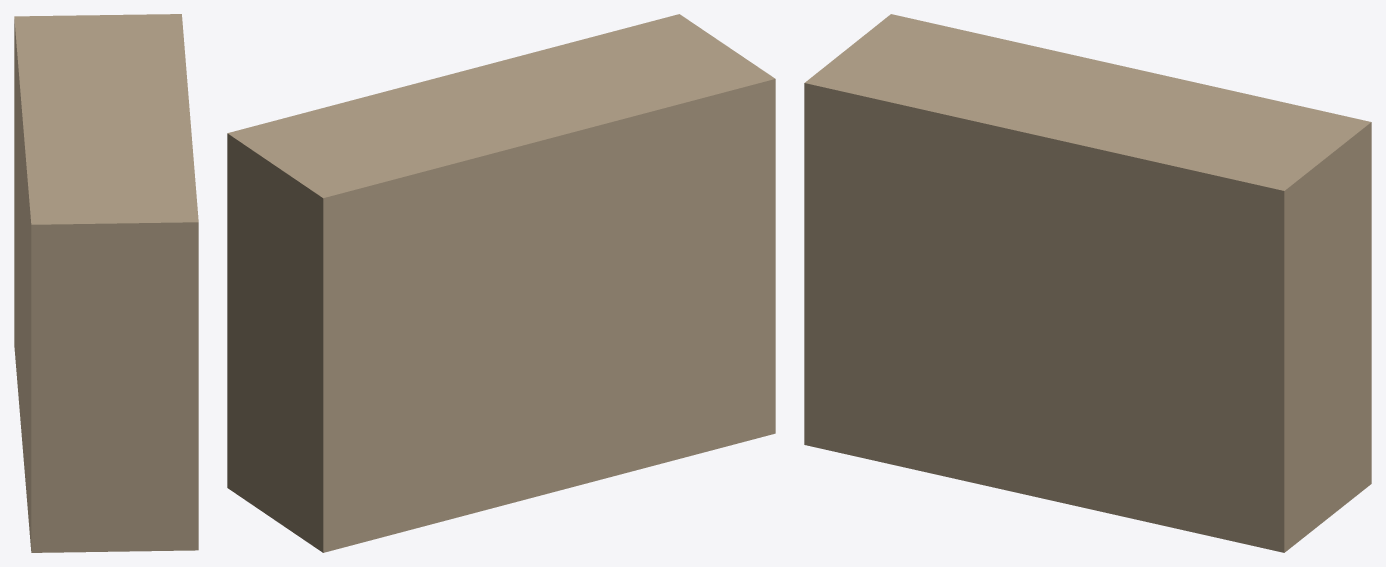
File: bld_99531830.dae
The picture shows the model from 3 angles, left to right: view 1: azimuth 30°, elevation 25°; view 2: azimuth 150°, elevation 25°; view 3: azimuth 270°, elevation 25°; orthographic projection. The views are drawn at different scales.
Parts seen in each view (by area): view 1: bld_99531830; view 2: bld_99531830; view 3: bld_99531830.
Boxes of the visible parts, x1,y1,x2,y2 form: bld_99531830: (14, 14, 198, 552); bld_99531830: (227, 14, 775, 552); bld_99531830: (804, 14, 1371, 552).
Size of the model in its own units: 8.39 by 11.36 by 8.
